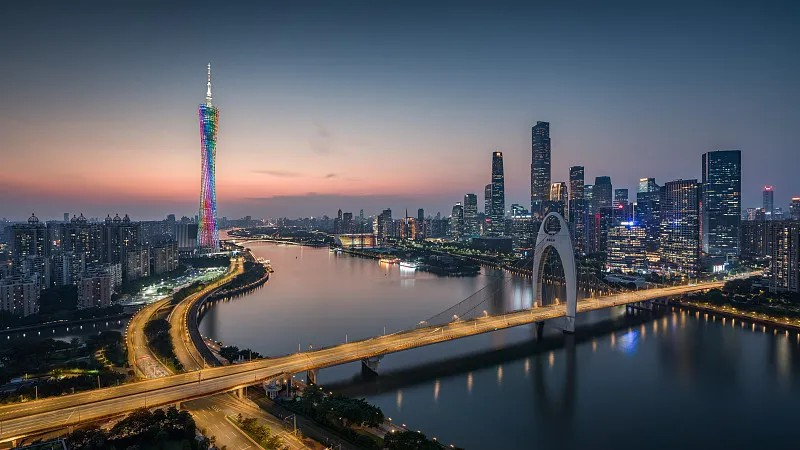Canton: (198, 61, 221, 253)
